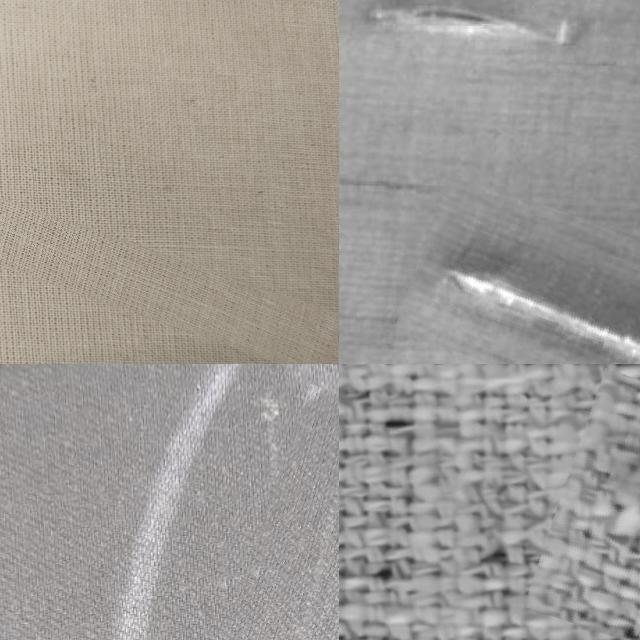other: (404, 195, 640, 364), (339, 0, 600, 103), (539, 384, 640, 640)
stains: (0, 161, 339, 328), (166, 386, 339, 640)
